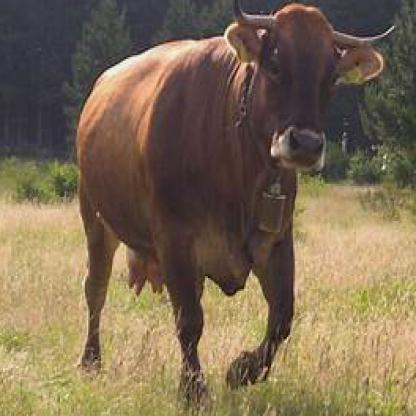cow: (77, 0, 397, 407)
